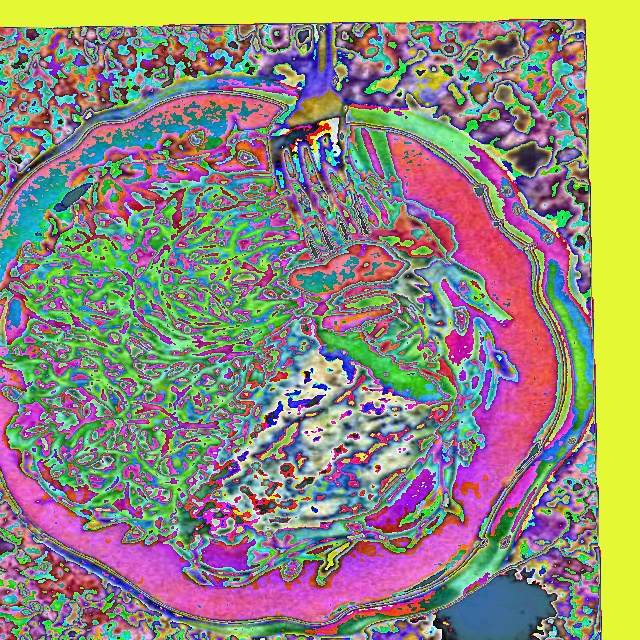background: (0, 174, 452, 542)
